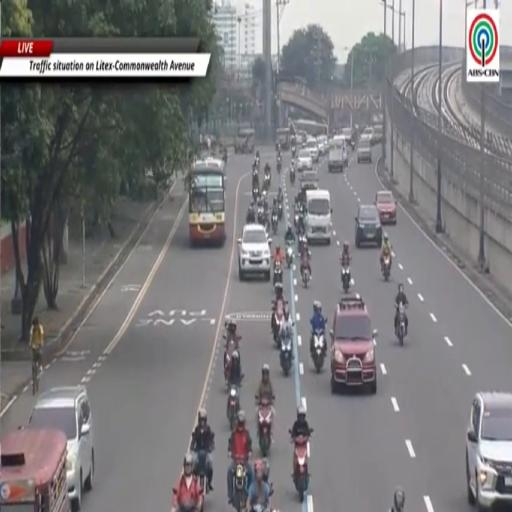bus: (188, 159, 226, 246), (294, 120, 328, 137), (276, 127, 290, 150)
car: (26, 387, 94, 509), (466, 392, 511, 510), (330, 295, 377, 394), (238, 224, 272, 281), (355, 205, 383, 248), (375, 190, 397, 225), (328, 136, 347, 172), (357, 137, 372, 163), (296, 149, 312, 171), (306, 138, 319, 163), (300, 171, 318, 189), (371, 124, 383, 145), (317, 135, 329, 156), (362, 126, 374, 139)
jeepney: (0, 429, 70, 511), (234, 128, 254, 153), (276, 128, 290, 150)
motorcycle: (292, 436, 309, 502), (255, 396, 273, 457), (231, 461, 247, 511), (224, 334, 238, 382), (195, 451, 209, 495), (312, 330, 326, 373), (273, 299, 285, 347), (280, 336, 293, 376), (227, 386, 239, 429), (396, 302, 405, 346), (382, 255, 391, 282), (342, 266, 351, 293), (273, 261, 282, 286), (301, 265, 310, 287), (296, 213, 305, 235), (178, 503, 202, 511), (286, 245, 293, 268), (298, 234, 306, 253), (251, 504, 271, 511), (258, 207, 265, 226), (272, 214, 278, 234), (264, 173, 270, 190), (252, 187, 259, 201), (290, 167, 295, 186), (278, 202, 283, 220), (294, 213, 299, 230), (291, 145, 296, 159), (277, 159, 281, 173), (350, 139, 355, 150), (256, 157, 260, 170), (223, 151, 227, 164)
